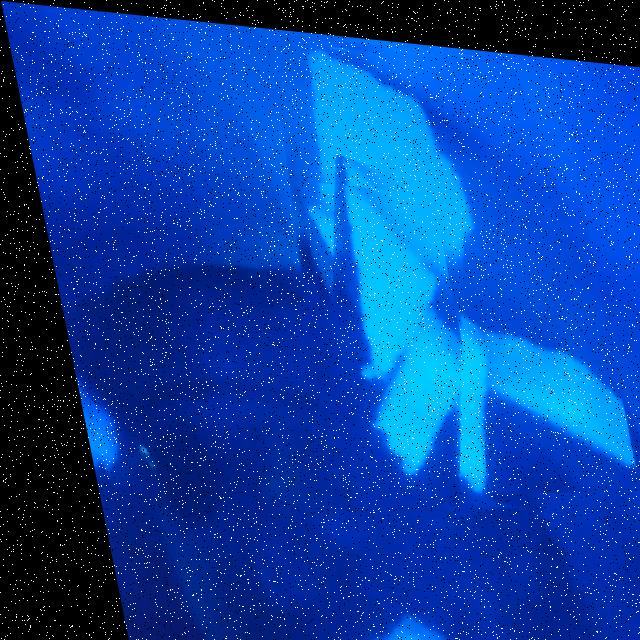thermocoal: (240, 31, 628, 520), (257, 26, 514, 283), (277, 173, 475, 498), (426, 302, 602, 506), (53, 337, 137, 496), (315, 586, 436, 640)
